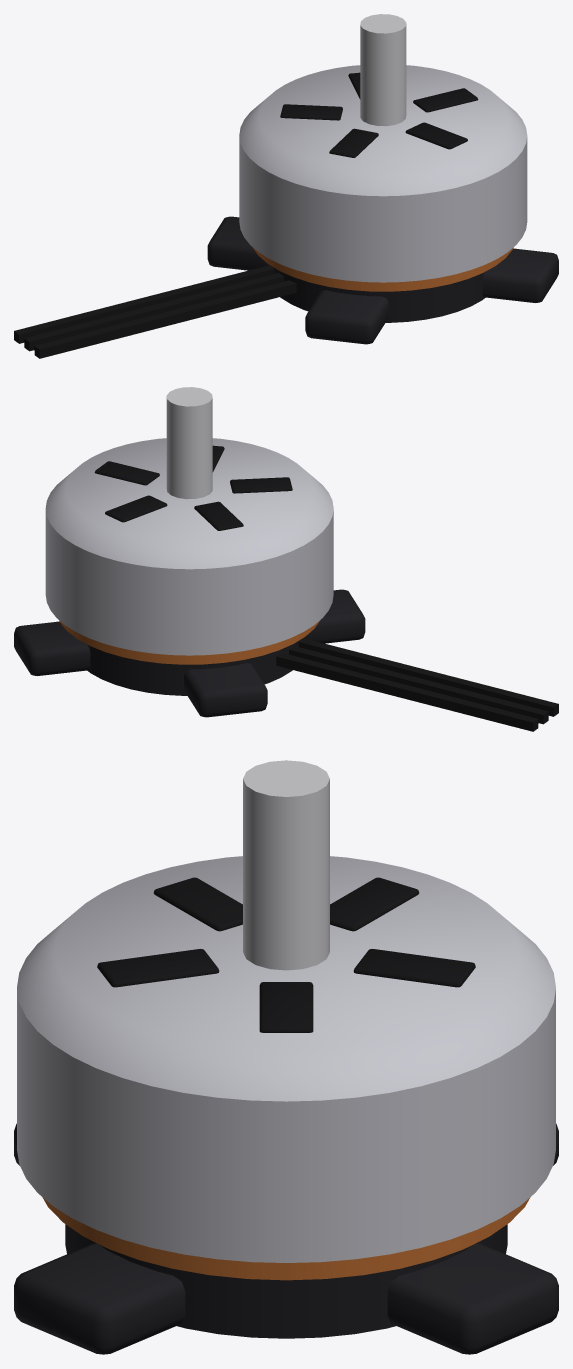
File: motor_2507.glb
3 views of the same model, one above another, from view 1: azimuth 30°, elevation 25°; view 2: azimuth 150°, elevation 25°; view 3: azimuth 270°, elevation 25° (orthographic). The views are drawn at different scales.
Parts seen in each view (by area): view 1: motor_2507_M_Bell_2507, motor_2507_M_MotorBase, motor_2507_M_WireBlack, motor_2507_M_Steel, motor_2507_M_MotorDark, motor_2507_M_Copper; view 2: motor_2507_M_Bell_2507, motor_2507_M_MotorBase, motor_2507_M_WireBlack, motor_2507_M_Steel, motor_2507_M_MotorDark, motor_2507_M_Copper; view 3: motor_2507_M_Bell_2507, motor_2507_M_MotorBase, motor_2507_M_Steel, motor_2507_M_MotorDark, motor_2507_M_Copper.
Part boxes in pixels (x1,y1,x2,y2): motor_2507_M_Bell_2507: [239, 65, 527, 282]; motor_2507_M_MotorBase: [207, 216, 558, 344]; motor_2507_M_WireBlack: [14, 265, 296, 358]; motor_2507_M_Steel: [360, 14, 406, 126]; motor_2507_M_MotorDark: [280, 72, 478, 157]; motor_2507_M_Copper: [252, 247, 513, 291]; motor_2507_M_Bell_2507: [45, 438, 333, 655]; motor_2507_M_MotorBase: [14, 589, 365, 717]; motor_2507_M_WireBlack: [276, 638, 558, 731]; motor_2507_M_Steel: [166, 387, 212, 499]; motor_2507_M_MotorDark: [94, 445, 292, 530]; motor_2507_M_Copper: [59, 620, 320, 664]; motor_2507_M_Bell_2507: [17, 856, 555, 1262]; motor_2507_M_MotorBase: [14, 1123, 558, 1354]; motor_2507_M_Steel: [243, 760, 329, 970]; motor_2507_M_MotorDark: [97, 877, 475, 1032]; motor_2507_M_Copper: [42, 1197, 530, 1280].
Bounding box in the file's own units: 0.06 × 0.0296 × 0.0313.
